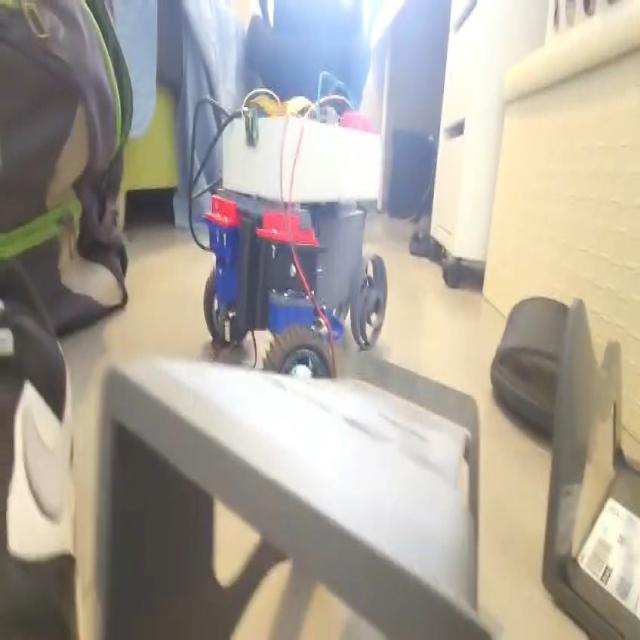Robot: (201, 97, 388, 381)
